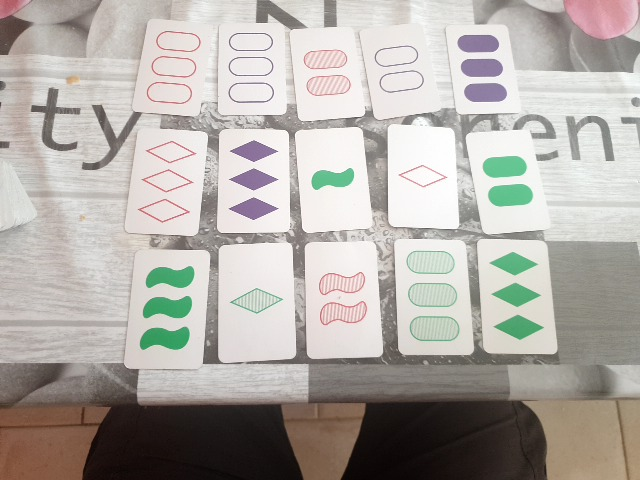1ED: (392, 130, 453, 225)
1FW: (303, 132, 362, 225)
1HD: (222, 248, 288, 358)
2EP: (374, 27, 424, 110)
2FP: (479, 145, 536, 216)
2HP: (299, 29, 354, 115)
2HW: (311, 245, 374, 353)
3ED: (137, 133, 198, 231)
3EP: (224, 24, 282, 112), (146, 28, 201, 107)
3FD: (485, 243, 546, 350), (223, 131, 286, 229)
3FP: (456, 27, 510, 108)
3FW: (136, 252, 202, 362)
3HP: (401, 243, 462, 353)
